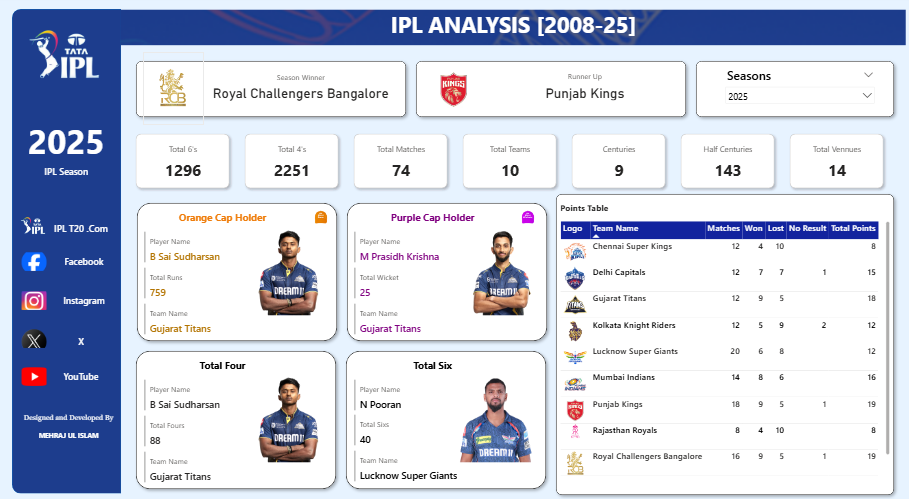

This screenshot's page, from the dashboard's own definition file:
{"tool":"powerbi","page":{"name":"Page 1","canvas":[2000,1100],"ordinal":0},"visuals":[{"type":"shape","box":[26.4,19.8,240.1,1066.1],"z":0},{"type":"shape","box":[1520.2,123.2,457.6,145.2],"z":1000},{"type":"shape","box":[1212.2,415.8,765.6,684.2],"z":2000},{"type":"shape","box":[750.2,761.2,462,325.6],"z":3000},{"type":"shape","box":[288.2,761.2,462,325.6],"z":4000},{"type":"shape","box":[290.4,435.6,462,325.6],"z":5000},{"type":"shape","box":[904.2,123.2,616,145.2],"z":6000},{"type":"shape","box":[288.2,123.2,616,145.2],"z":7000},{"type":"image","box":[259.6,15.4,1738,90.2],"z":8000},{"type":"textbox","box":[812.8,15.4,636.6,85.9],"z":9000},{"type":"slicer","fields":{"Values":["IPL Matches Data.season"]},"box":[1586.2,143,347.6,105.6],"z":10000},{"type":"cardVisual","fields":{"Data":["IPL Matches Data.Season Winner"]},"box":[448.8,101.2,426.8,178.2],"z":11000},{"type":"cardVisual","fields":{"Data":["IPL Matches Data.Season Winner Logo"]},"box":[314.6,114.4,134.2,160.6],"z":12000},{"type":"cardVisual","fields":{"Data":["IPL Matches Data.Runner Up"]},"box":[1001,118.8,572,140.8],"z":13000},{"type":"cardVisual","fields":{"Data":["IPL Matches Data.Runner Up Team logo"]},"box":[932.8,118.8,134.2,160.6],"z":14000},{"type":"cardVisual","fields":{"Data":["IPL Matches Data.Total 6's"]},"box":[281.6,277.2,240,154],"z":15000},{"type":"cardVisual","fields":{"Data":["IPL Matches Data.Total 4's"]},"box":[521.4,277.2,240,154],"z":16000},{"type":"cardVisual","fields":{"Data":["IPL Matches Data.Total Matches"]},"box":[761.2,277.2,240,154],"z":17000},{"type":"cardVisual","fields":{"Data":["IPL Matches Data.Total Teams"]},"box":[1001,277.2,240,154],"z":18000},{"type":"cardVisual","fields":{"Data":["IPL Matches Data.Centuries"]},"box":[1240.8,277.2,240,154],"z":19000},{"type":"cardVisual","fields":{"Data":["IPL Matches Data.Half Centuries"]},"box":[1480.6,277.2,240,154],"z":20000},{"type":"cardVisual","fields":{"Data":["IPL Matches Data.Total Vennues"]},"box":[1720.4,277.2,240,154],"z":21000},{"type":"cardVisual","fields":{"Data":["IPL Matches Data.Orange Cap Holder"]},"box":[312.4,503.8,356.4,79.2],"z":22000},{"type":"cardVisual","fields":{"Data":["IPL Matches Data.Orange Cap Runs"]},"box":[312.4,583,356.4,79.2],"z":23000},{"type":"cardVisual","fields":{"Data":["IPL Matches Data.Orange Cap Team Name"]},"box":[312.4,662.2,356.4,79.2],"z":24000},{"type":"textbox","box":[369.6,457.6,239.8,46.2],"z":25000},{"type":"cardVisual","fields":{"Data":["IPL Matches Data.Orange Cap Image"]},"box":[519.2,457.6,239.8,283.8],"z":26000},{"type":"image","box":[640.2,457.6,132,39.6],"z":27000},{"type":"shape","box":[752.4,435.6,462,325.6],"z":28000},{"type":"cardVisual","fields":{"Data":["IPL Matches Data.Purple Cap Holder"]},"box":[774.4,503.8,356.4,79.2],"z":29000},{"type":"cardVisual","fields":{"Data":["IPL Matches Data.Purple Cap Wicket Count"]},"box":[774.4,583,356.4,79.2],"z":30000},{"type":"cardVisual","fields":{"Data":["IPL Matches Data.Orange Cap Team Name"]},"box":[774.4,662.2,356.4,79.2],"z":31000},{"type":"cardVisual","fields":{"Data":["IPL Matches Data.Purple Cap Images"]},"box":[987.8,457.6,239.8,283.8],"z":32000},{"type":"image","box":[1095.6,457.6,132,39.6],"z":33000},{"type":"textbox","box":[831.6,457.6,239.8,46.2],"z":34000},{"type":"cardVisual","fields":{"Data":["IPL Matches Data.Top Fours player Name"]},"box":[311.4,828.4,356.4,79.2],"z":35000},{"type":"cardVisual","fields":{"Data":["IPL Matches Data.Top Fours Count"]},"box":[311.4,907.6,356.4,79.2],"z":36000},{"type":"cardVisual","fields":{"Data":["IPL Matches Data.Top Fours player Team Name"]},"box":[311.4,986.8,356.4,79.2],"z":37000},{"type":"textbox","box":[369.6,783.2,239.8,46.2],"z":38000},{"type":"cardVisual","fields":{"Data":["IPL Matches Data.Top Fours player Image"]},"box":[519.2,781,239.8,283.8],"z":39000},{"type":"cardVisual","fields":{"Data":["IPL Matches Data.Top Six player Name"]},"box":[774.4,829.4,356.4,79.2],"z":40000},{"type":"cardVisual","fields":{"Data":["IPL Matches Data.Top Six Count"]},"box":[774.4,906.4,356.4,79.2],"z":41000},{"type":"cardVisual","fields":{"Data":["IPL Matches Data.Top Six Player Team Name"]},"box":[774.4,985.6,356.4,79.2],"z":42000},{"type":"cardVisual","fields":{"Data":["IPL Matches Data.Top Six player Image"]},"box":[972.4,781,239.8,283.8],"z":43000},{"type":"textbox","box":[831.6,783.2,239.8,46.2],"z":44000},{"type":"tableEx","fields":{"Values":["Teams data.image_url","Teams data.team_name","IPL Matches Data.Matches Played","IPL Matches Data.Matches Won","IPL Matches Data.Matches Lost","IPL Matches Data.No Result Played","IPL Matches Data.Total Points"]},"box":[1227.6,481.8,734.8,576.4],"z":45000},{"type":"textbox","box":[1227.6,440,292.6,41.8],"z":46000},{"type":"image","box":[17.6,0,259.6,242],"z":47000},{"type":"cardVisual","fields":{"Data":["IPL Matches Data.IPL Season"]},"box":[26.4,242,239.8,158.4],"z":48000},{"type":"actionButton","box":[96.8,484,162.8,37.4],"z":49000},{"type":"image","box":[26.4,444.4,96.8,105.6],"z":50000},{"type":"image","box":[26.4,550,96.8,50.6],"z":51000},{"type":"image","box":[26.4,635.8,96.8,50.6],"z":52000},{"type":"image","box":[26.4,719.4,96.8,50.6],"z":53000},{"type":"actionButton","box":[103.4,556.6,162.8,37.4],"z":54000},{"type":"actionButton","box":[103.4,642.4,162.8,37.4],"z":55000},{"type":"actionButton","box":[96.8,732.6,162.8,37.4],"z":56000},{"type":"actionButton","box":[96.8,809.6,162.8,37.4],"z":57000},{"type":"image","box":[26.4,803,96.8,50.6],"z":58000},{"type":"textbox","box":[0,904.2,301.4,37.4],"z":59000},{"type":"textbox","box":[0,941.6,301.4,37.4],"z":59001}]}

Visuals, with their boxes in screenshot pixels (x1, y1, x2, y2), scaled from the page's 2000x1100 canvas onto the 909x499 screenshot:
shape: [x1=12, y1=9, x2=121, y2=493]
shape: [x1=691, y1=56, x2=899, y2=122]
shape: [x1=551, y1=189, x2=899, y2=498]
shape: [x1=341, y1=345, x2=551, y2=493]
shape: [x1=131, y1=345, x2=341, y2=493]
shape: [x1=132, y1=198, x2=342, y2=345]
shape: [x1=411, y1=56, x2=691, y2=122]
shape: [x1=131, y1=56, x2=411, y2=122]
image: [x1=118, y1=7, x2=908, y2=48]
textbox: [x1=369, y1=7, x2=659, y2=46]
slicer - IPL Matches Data.season: [x1=721, y1=65, x2=879, y2=113]
cardVisual - IPL Matches Data.Season Winner: [x1=204, y1=46, x2=398, y2=127]
cardVisual - IPL Matches Data.Season Winner Logo: [x1=143, y1=52, x2=204, y2=125]
cardVisual - IPL Matches Data.Runner Up: [x1=455, y1=54, x2=715, y2=118]
cardVisual - IPL Matches Data.Runner Up Team logo: [x1=424, y1=54, x2=485, y2=127]
cardVisual - IPL Matches Data.Total 6's: [x1=128, y1=126, x2=237, y2=196]
cardVisual - IPL Matches Data.Total 4's: [x1=237, y1=126, x2=346, y2=196]
cardVisual - IPL Matches Data.Total Matches: [x1=346, y1=126, x2=455, y2=196]
cardVisual - IPL Matches Data.Total Teams: [x1=455, y1=126, x2=564, y2=196]
cardVisual - IPL Matches Data.Centuries: [x1=564, y1=126, x2=673, y2=196]
cardVisual - IPL Matches Data.Half Centuries: [x1=673, y1=126, x2=782, y2=196]
cardVisual - IPL Matches Data.Total Vennues: [x1=782, y1=126, x2=891, y2=196]
cardVisual - IPL Matches Data.Orange Cap Holder: [x1=142, y1=229, x2=304, y2=264]
cardVisual - IPL Matches Data.Orange Cap Runs: [x1=142, y1=264, x2=304, y2=300]
cardVisual - IPL Matches Data.Orange Cap Team Name: [x1=142, y1=300, x2=304, y2=336]
textbox: [x1=168, y1=208, x2=277, y2=229]
cardVisual - IPL Matches Data.Orange Cap Image: [x1=236, y1=208, x2=345, y2=336]
image: [x1=291, y1=208, x2=351, y2=226]
shape: [x1=342, y1=198, x2=552, y2=345]
cardVisual - IPL Matches Data.Purple Cap Holder: [x1=352, y1=229, x2=514, y2=264]
cardVisual - IPL Matches Data.Purple Cap Wicket Count: [x1=352, y1=264, x2=514, y2=300]
cardVisual - IPL Matches Data.Orange Cap Team Name: [x1=352, y1=300, x2=514, y2=336]
cardVisual - IPL Matches Data.Purple Cap Images: [x1=449, y1=208, x2=558, y2=336]
image: [x1=498, y1=208, x2=558, y2=226]
textbox: [x1=378, y1=208, x2=487, y2=229]
cardVisual - IPL Matches Data.Top Fours player Name: [x1=142, y1=376, x2=304, y2=412]
cardVisual - IPL Matches Data.Top Fours Count: [x1=142, y1=412, x2=304, y2=448]
cardVisual - IPL Matches Data.Top Fours player Team Name: [x1=142, y1=448, x2=304, y2=484]
textbox: [x1=168, y1=355, x2=277, y2=376]
cardVisual - IPL Matches Data.Top Fours player Image: [x1=236, y1=354, x2=345, y2=483]
cardVisual - IPL Matches Data.Top Six player Name: [x1=352, y1=376, x2=514, y2=412]
cardVisual - IPL Matches Data.Top Six Count: [x1=352, y1=411, x2=514, y2=447]
cardVisual - IPL Matches Data.Top Six Player Team Name: [x1=352, y1=447, x2=514, y2=483]
cardVisual - IPL Matches Data.Top Six player Image: [x1=442, y1=354, x2=551, y2=483]
textbox: [x1=378, y1=355, x2=487, y2=376]
tableEx - Teams data.image_url x Teams data.team_name: [x1=558, y1=219, x2=892, y2=480]
textbox: [x1=558, y1=200, x2=691, y2=219]
image: [x1=8, y1=0, x2=126, y2=110]
cardVisual - IPL Matches Data.IPL Season: [x1=12, y1=110, x2=121, y2=182]
actionButton: [x1=44, y1=220, x2=118, y2=237]
image: [x1=12, y1=202, x2=56, y2=250]
image: [x1=12, y1=250, x2=56, y2=272]
image: [x1=12, y1=288, x2=56, y2=311]
image: [x1=12, y1=326, x2=56, y2=349]
actionButton: [x1=47, y1=252, x2=121, y2=269]
actionButton: [x1=47, y1=291, x2=121, y2=308]
actionButton: [x1=44, y1=332, x2=118, y2=349]
actionButton: [x1=44, y1=367, x2=118, y2=384]
image: [x1=12, y1=364, x2=56, y2=387]
textbox: [x1=0, y1=410, x2=137, y2=427]
textbox: [x1=0, y1=427, x2=137, y2=444]
